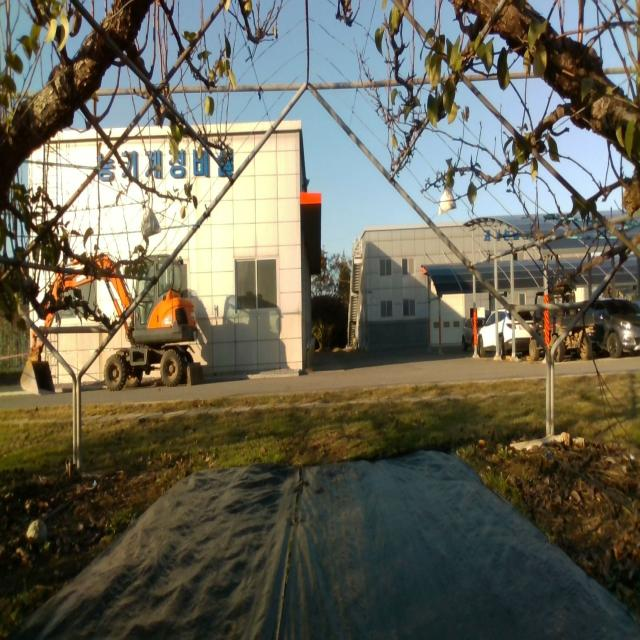pearbags: (141, 203, 162, 240), (437, 186, 457, 216)
